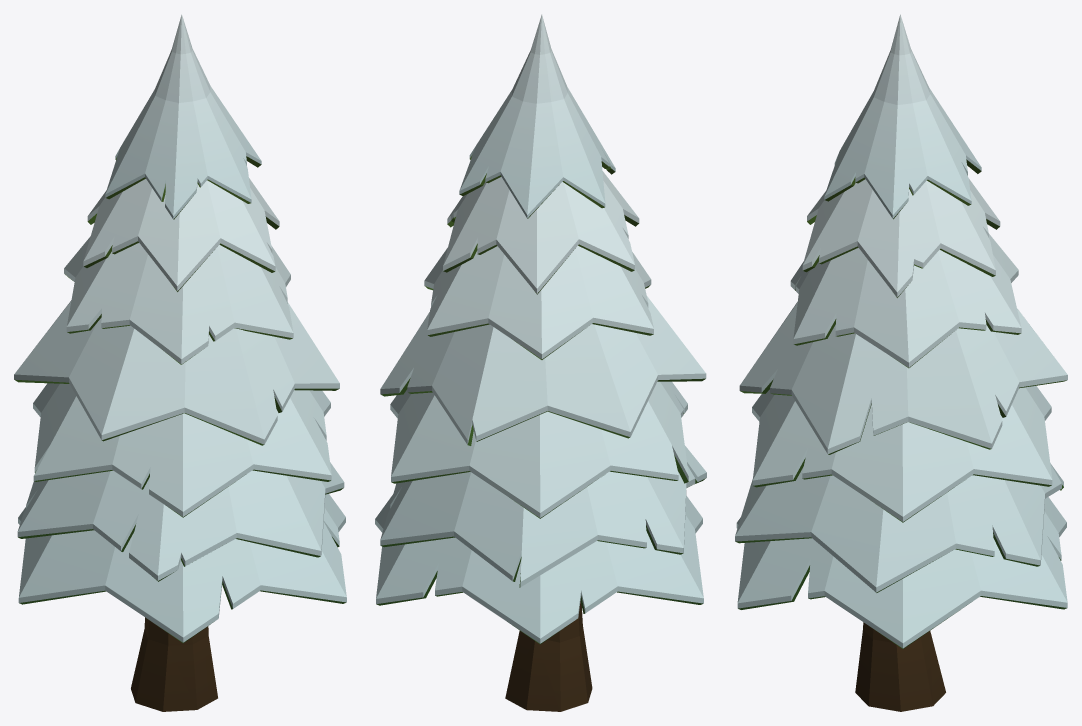
File: Winter_Tree_01.glb
The picture shows the model from 3 angles, left to right: view 1: azimuth 30°, elevation 25°; view 2: azimuth 150°, elevation 25°; view 3: azimuth 270°, elevation 25°; orthographic projection.
Visible parts, largest first — view 1: Winter_Tree_01_LOD0; view 2: Winter_Tree_01_LOD0; view 3: Winter_Tree_01_LOD0.
Part boxes in pixels (box(x1,y1,x2,y2)): Winter_Tree_01_LOD0: box(14, 14, 346, 711); Winter_Tree_01_LOD0: box(375, 14, 706, 711); Winter_Tree_01_LOD0: box(735, 14, 1067, 711).
Size of what is drawn, in the model's own units: 2.3 by 4.55 by 2.01.
Materials: 1 (1 with a texture image).
